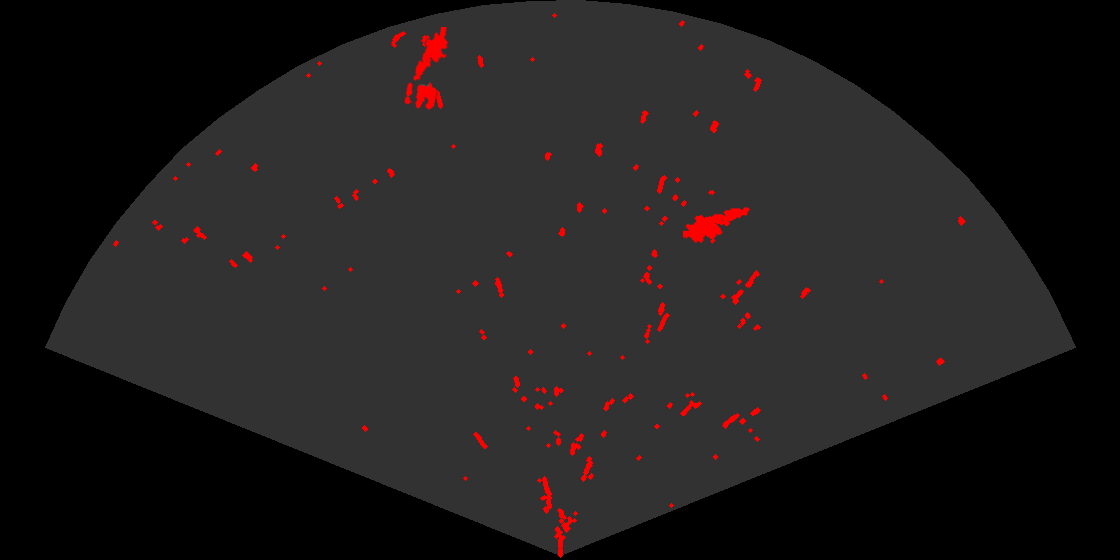ball: (403, 81, 439, 111)
frogman: (683, 206, 751, 245), (412, 27, 450, 83)
